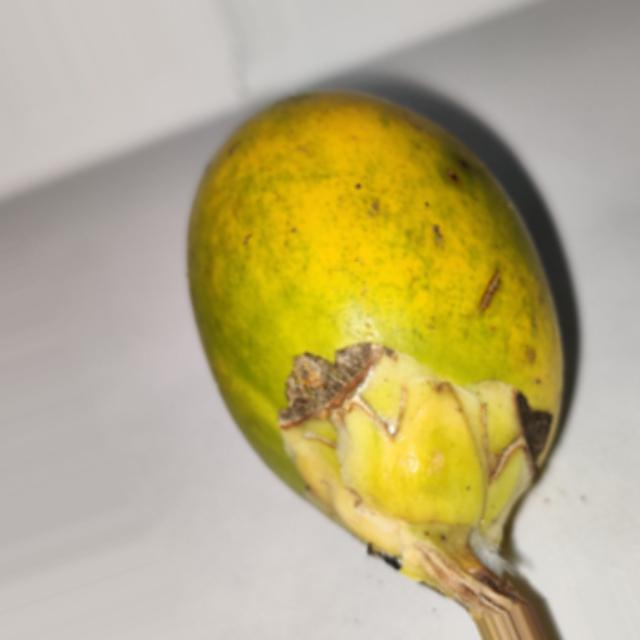damaged: (185, 90, 574, 638)
